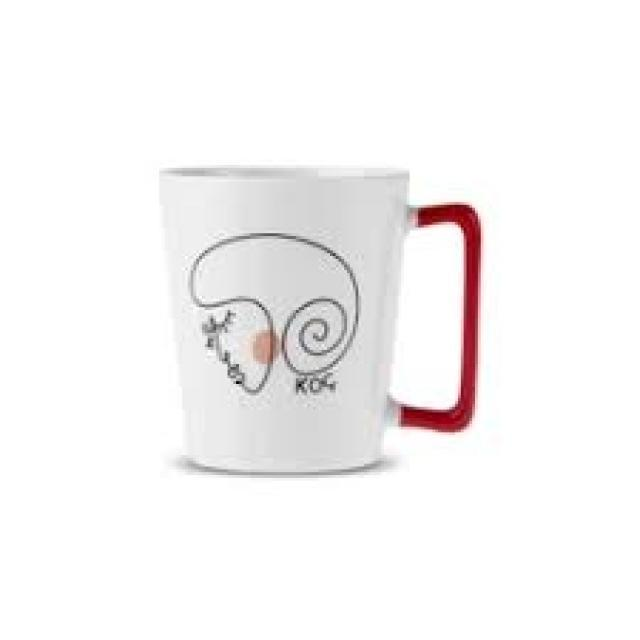taza: (156, 164, 482, 474)
